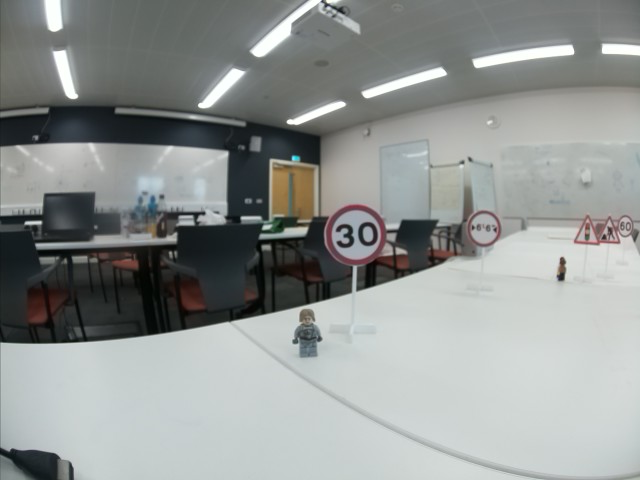30mph: (323, 205, 387, 267)
60mph: (619, 216, 634, 238)
6ft6: (466, 210, 502, 249)
Lego Man: (292, 307, 324, 357), (556, 253, 568, 284)
Roadworks: (599, 216, 621, 244)
Traffic lights: (575, 215, 601, 245)
